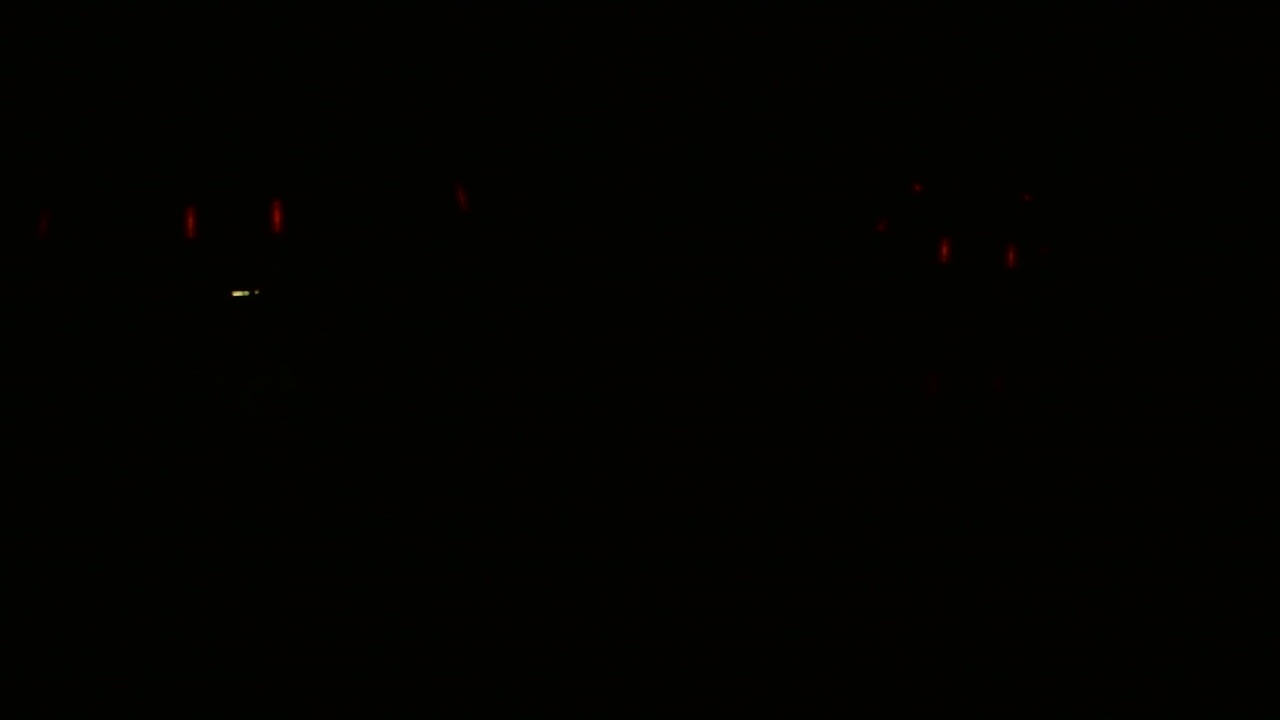pair1: (178, 196, 288, 241), (937, 235, 1017, 274)
